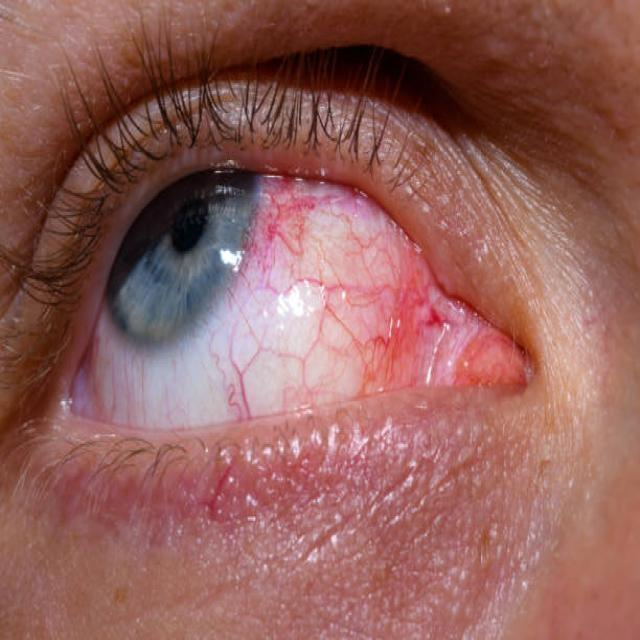Conjunctivitis: (118, 183, 528, 410)
